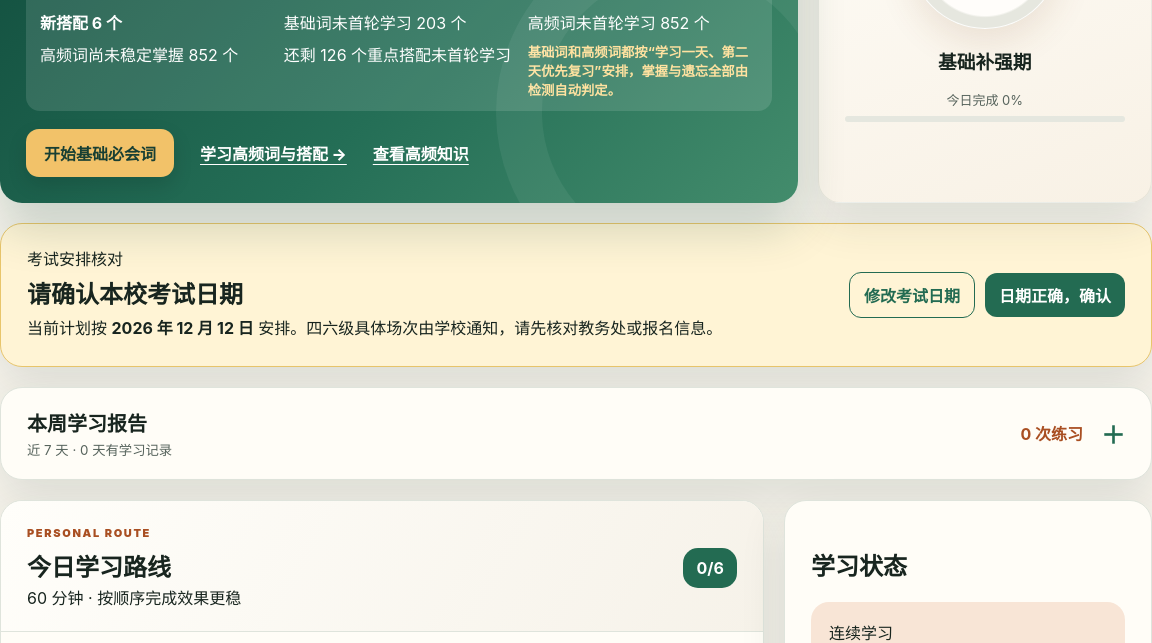
TodayPage › asks for school-notice exam-date confirmation and hides the card after confirmation
(page scrolled)
Expected: the heading "请确认本校考试日期" is shown, [27,280,243,309]
Expected: the text "2026 年 12 月 12 日" is shown, [112,318,254,338]
Click the button "日期正确，确认". click: (1055, 295)
box: [985,273,1125,317]
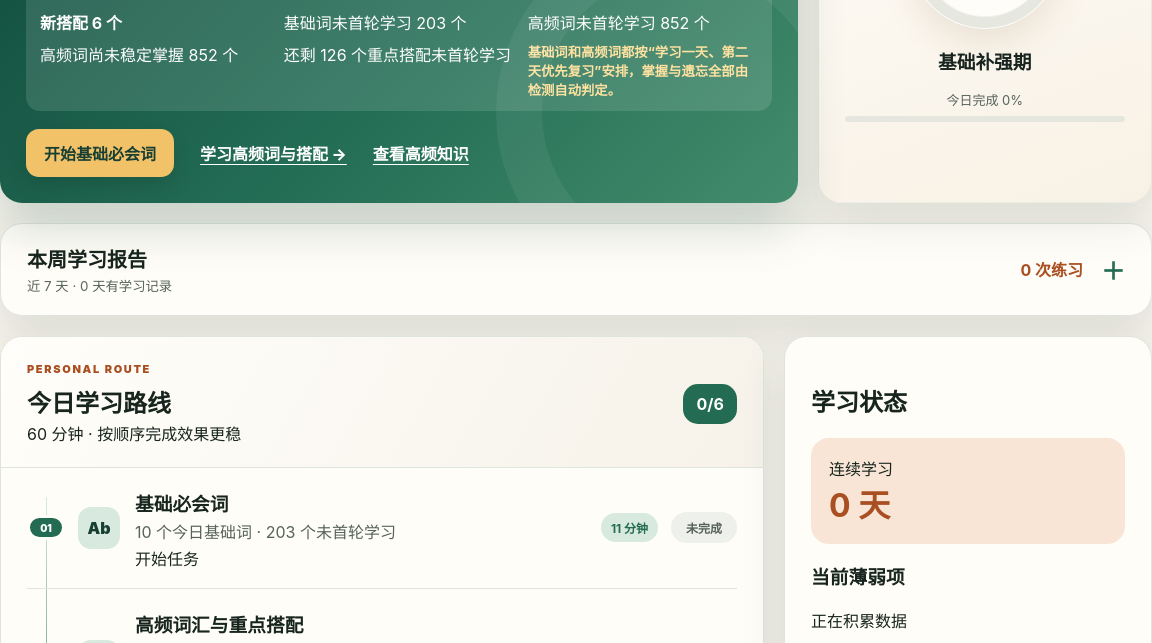
Expected: the heading "请确认本校考试日期" is gone
